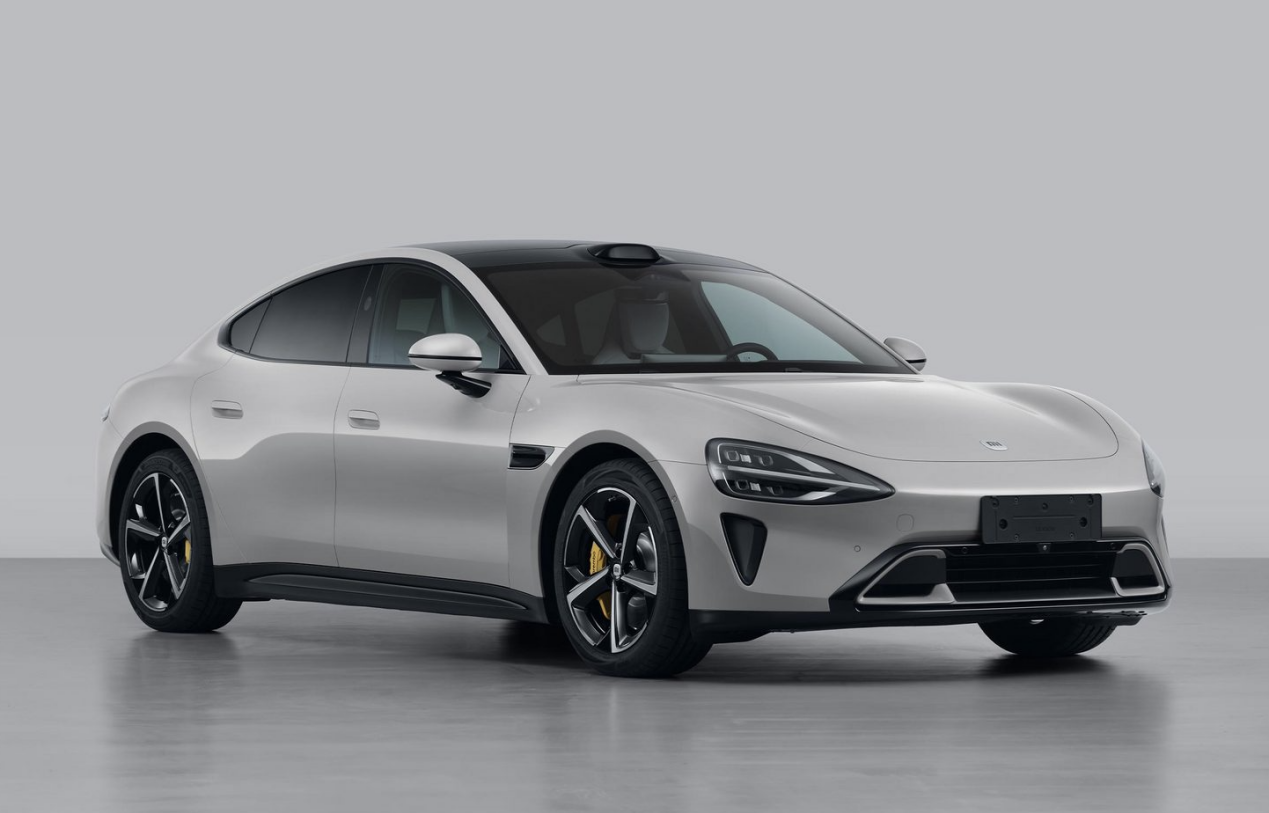su7: (88, 233, 1175, 681)
